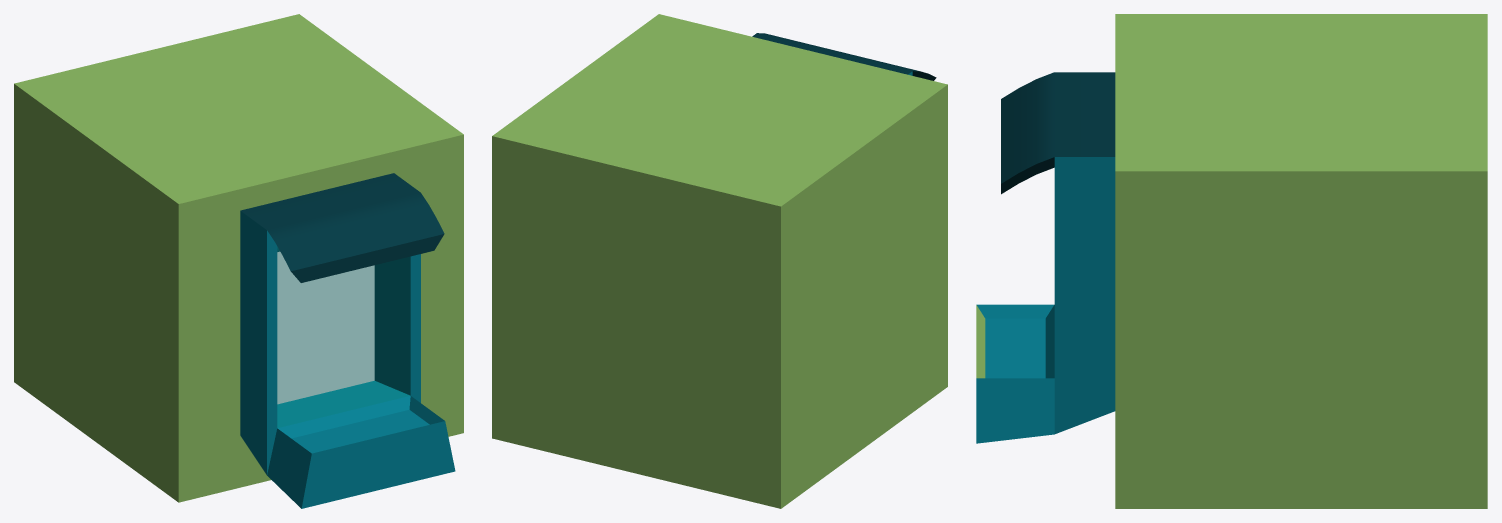
The model's file is Middle Block BlueGreen.fbx.
The picture shows the model from 3 angles, left to right: view 1: azimuth 30°, elevation 25°; view 2: azimuth 150°, elevation 25°; view 3: azimuth 270°, elevation 25°; orthographic projection. The views are drawn at different scales.
Visible parts, largest first — view 1: pCube24; view 2: pCube24; view 3: pCube24.
Part boxes in pixels (x1=…): pCube24: x1=14, y1=14, x2=463, y2=508; pCube24: x1=492, y1=14, x2=947, y2=508; pCube24: x1=976, y1=14, x2=1487, y2=508.
Size of the model in its own units: 2 by 2 by 2.75.
